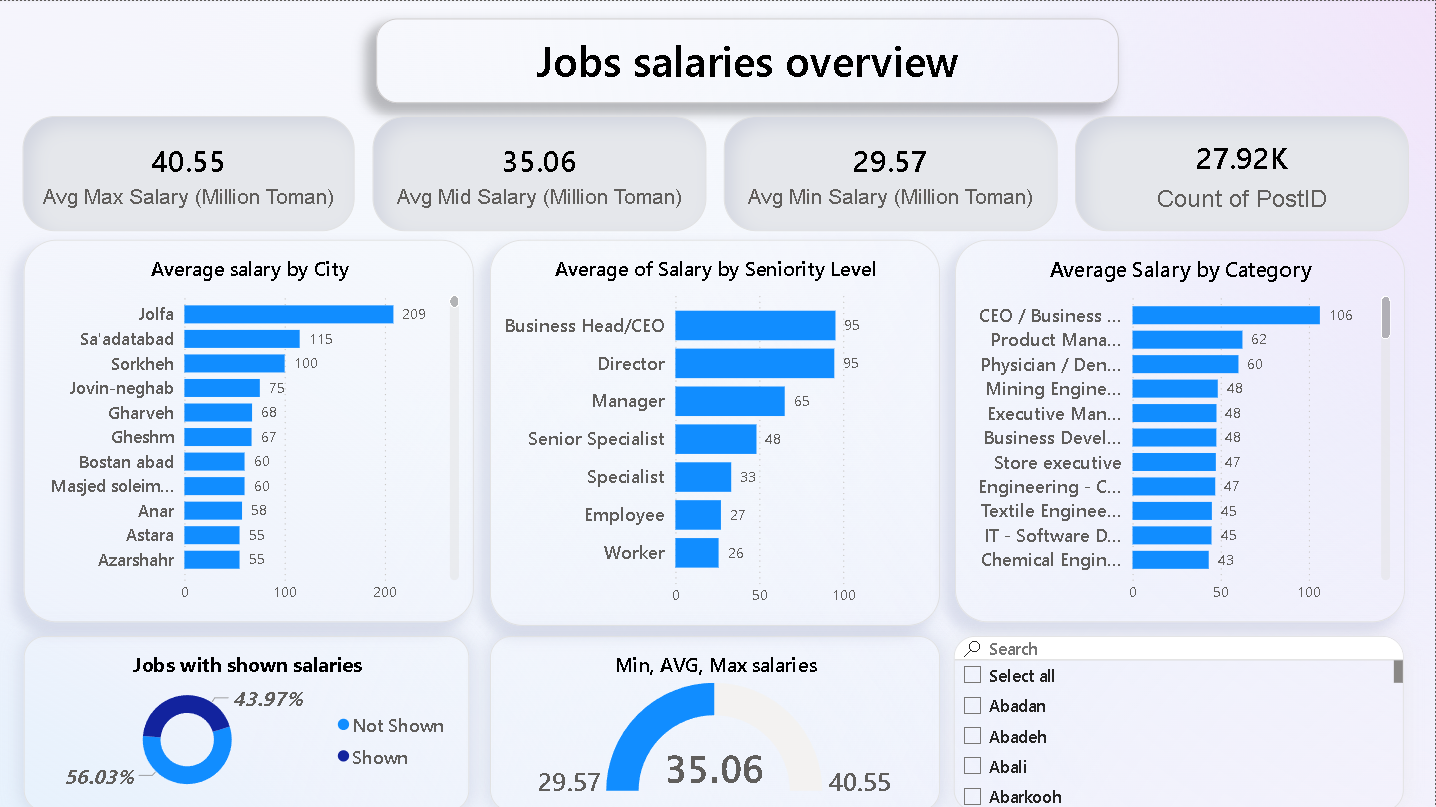

Layout of this report page (visuals, bound fields, positions):
{"tool":"powerbi","page":{"name":"2 ) Job salaries Overview","canvas":[1280,720],"ordinal":1},"visuals":[{"type":"clusteredBarChart","title":"Average salary by City","fields":{"Category":["JobPost.City"],"Y":["JobPost.Median Salary"]},"box":[25,212,400,340],"z":0},{"type":"clusteredBarChart","title":"Average of Salary by Seniority Level","fields":{"Category":["JobPost.Seniority_Level"],"Y":["Avg(JobPost.Salary avg)"]},"box":[440,212,400,343],"z":1000},{"type":"clusteredBarChart","title":"Average Salary by Category","fields":{"Category":["Job_Category.Category"],"Y":["JobPost.Avg Mid Salary"]},"box":[853,212,400,340],"z":2000},{"type":"textbox","box":[339,15,660,75],"z":3000},{"type":"card","fields":{"Values":["JobPost.Avg Max Salary"]},"box":[24,102,295.6,102],"z":4000},{"type":"card","fields":{"Values":["JobPost.Avg Min Salary"]},"box":[648,102,296.8,102],"z":5000},{"type":"card","fields":{"Values":["JobPost.Avg Mid Salary"]},"box":[336,102,296.8,102],"z":6000},{"type":"card","fields":{"Values":["CountNonNull(JobPost.PostID)"]},"box":[960,102.5,296.8,102],"z":7000},{"type":"gauge","fields":{"Y":["JobPost.Avg Mid Salary"],"MinValue":["JobPost.Avg Min Salary"],"MaxValue":["JobPost.Avg Max Salary"]},"box":[440,564,400,156],"z":8000},{"type":"donutChart","title":"Jobs with shown salaries","fields":{"Y":["CountNonNull(JobPost.PostID)"],"Category":["JobPost.shown salaries"]},"box":[25,564.6,396,156],"z":9000},{"type":"slicer","fields":{"Values":["JobPost.City"]},"box":[852.7,564.1,399.6,155.8],"z":10000}]}

Visuals, with their boxes in screenshot pixels (x1, y1, x2, y2), scaled from the page's 1280x720 canvas onto the 1436x807 screenshot:
"Average salary by City" clusteredBarChart: BBox(28, 238, 477, 619)
"Average of Salary by Seniority Level" clusteredBarChart: BBox(494, 238, 942, 622)
"Average Salary by Category" clusteredBarChart: BBox(957, 238, 1406, 619)
textbox: BBox(380, 17, 1121, 101)
card - JobPost.Avg Max Salary: BBox(27, 114, 359, 229)
card - JobPost.Avg Min Salary: BBox(727, 114, 1060, 229)
card - JobPost.Avg Mid Salary: BBox(377, 114, 710, 229)
card - CountNonNull(JobPost.PostID): BBox(1077, 115, 1410, 229)
gauge - JobPost.Avg Mid Salary x JobPost.Avg Min Salary: BBox(494, 632, 942, 806)
"Jobs with shown salaries" donutChart: BBox(28, 633, 472, 806)
slicer - JobPost.City: BBox(957, 632, 1405, 806)
